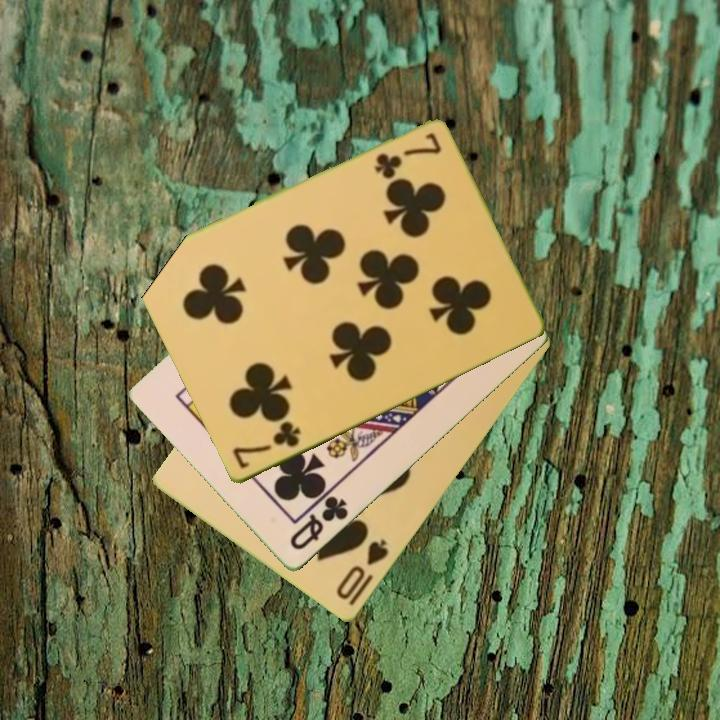10s: (332, 536, 392, 603)
7c: (229, 418, 304, 472), (370, 129, 444, 180)
Qc: (286, 493, 352, 554)
